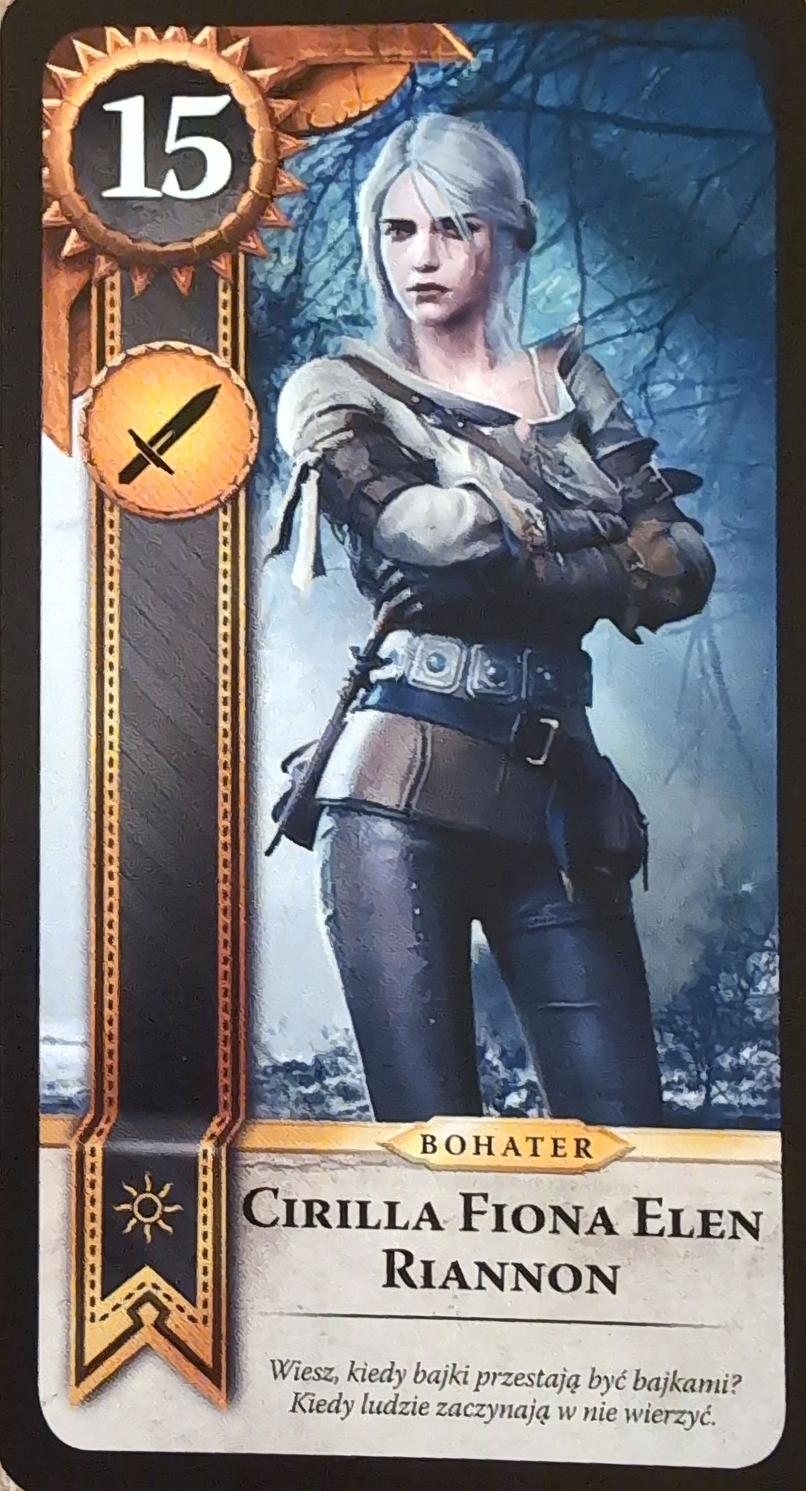15: (34, 21, 306, 295)
bohater: (372, 1113, 633, 1176)
miecz: (79, 340, 264, 522)
